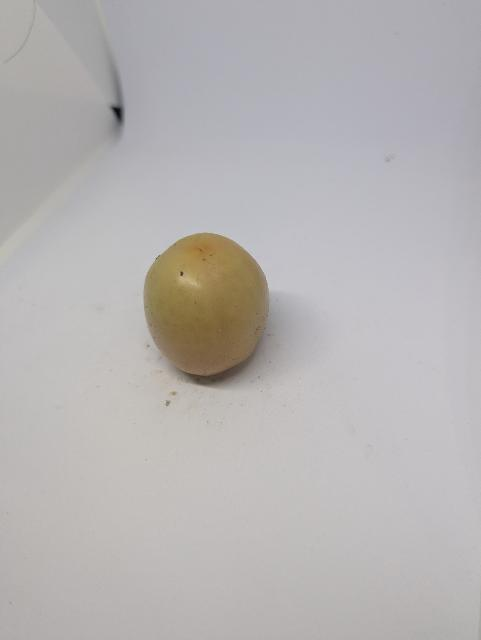breaker: (139, 221, 274, 390)
